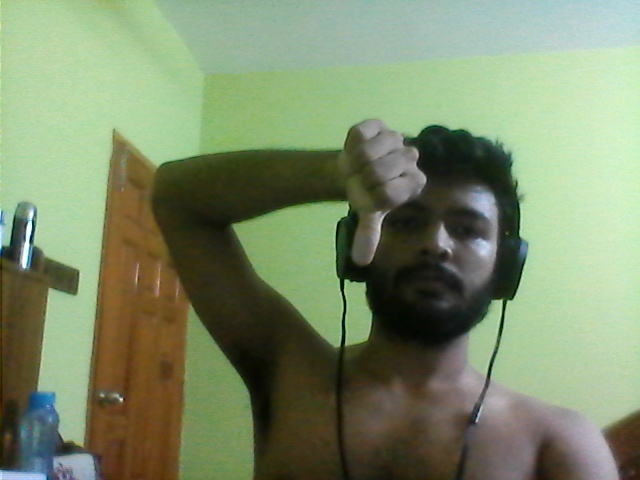No: (327, 109, 426, 274)
